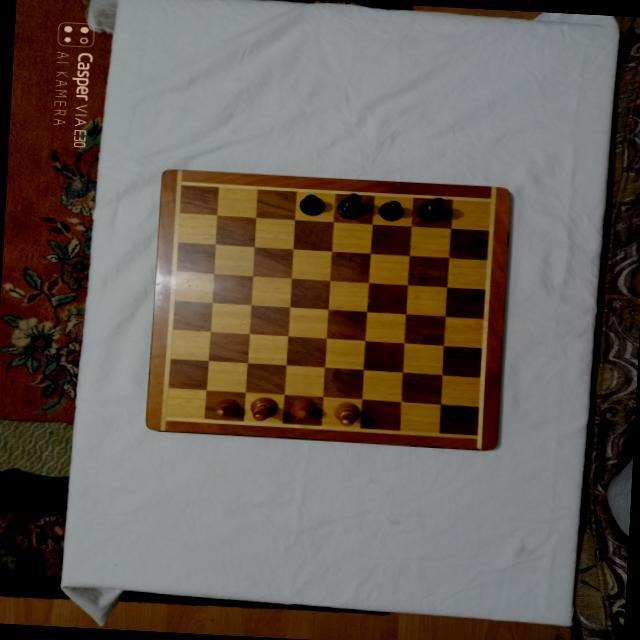black-bishop: (415, 195, 446, 223), (336, 192, 367, 220)
black-pawn: (376, 199, 405, 221), (298, 193, 326, 215)
white-bishop: (331, 400, 362, 427), (249, 395, 279, 421)
white-pawn: (291, 396, 317, 419)
